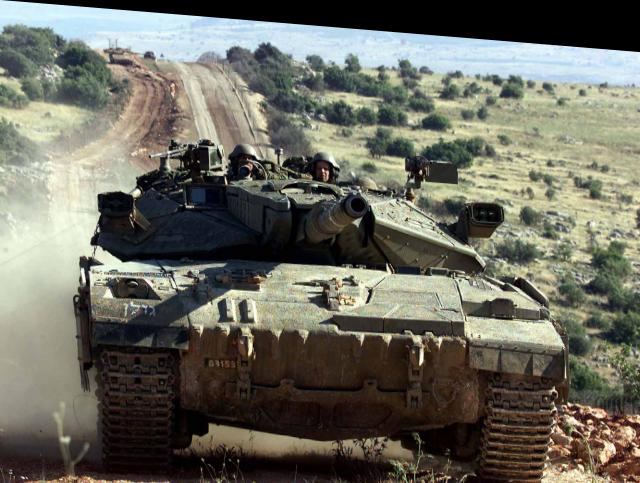other: (294, 143, 346, 183), (220, 124, 258, 178)
tank: (70, 124, 568, 482)
